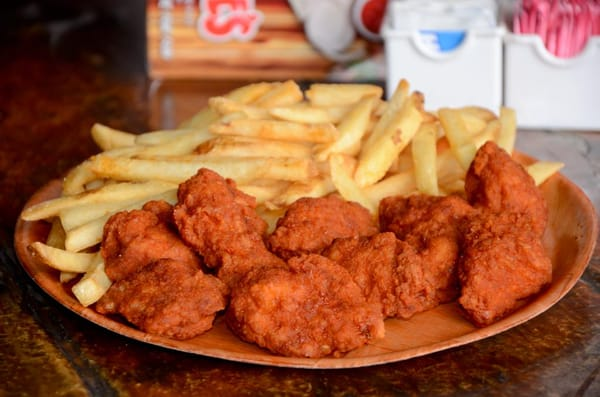pizza: (379, 1, 505, 117)
